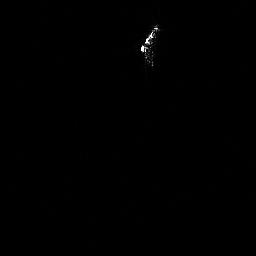ship: (137, 20, 164, 67)
